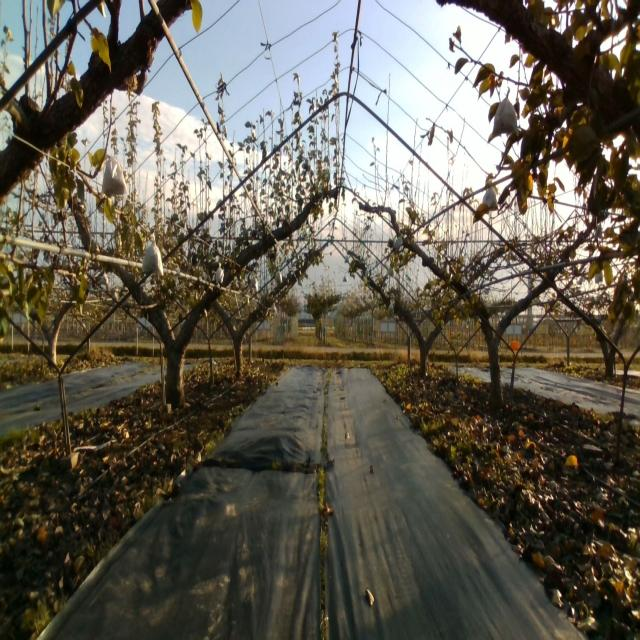pearbags: (492, 87, 519, 140), (99, 154, 128, 198), (140, 231, 163, 278), (482, 187, 498, 209)
